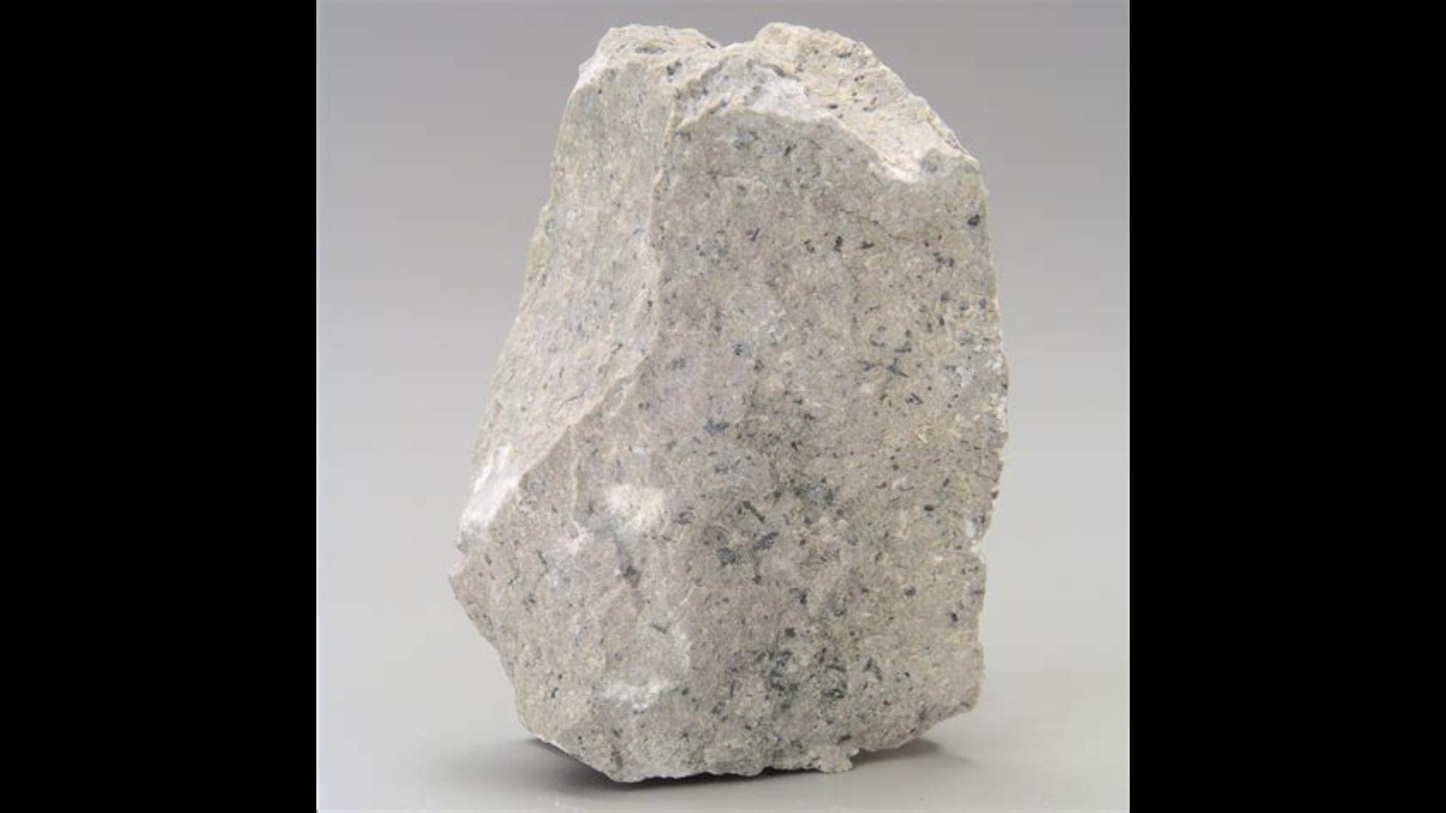rock: (454, 26, 1004, 779)
